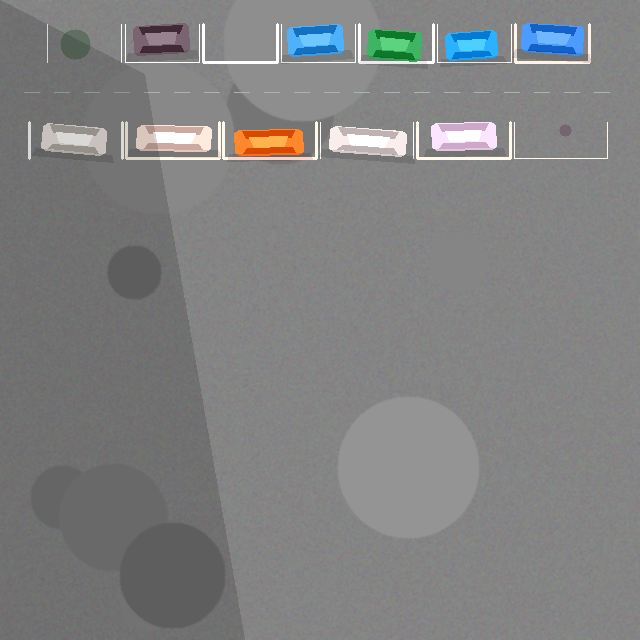space-empty: (514, 122, 607, 158), (47, 24, 121, 62), (203, 24, 277, 62)
space-occupied: (29, 122, 122, 158), (126, 122, 219, 158), (223, 122, 316, 158), (320, 122, 413, 158), (417, 122, 510, 158), (125, 24, 199, 62), (281, 24, 355, 62), (359, 24, 433, 62), (437, 24, 511, 62), (515, 24, 589, 62)
